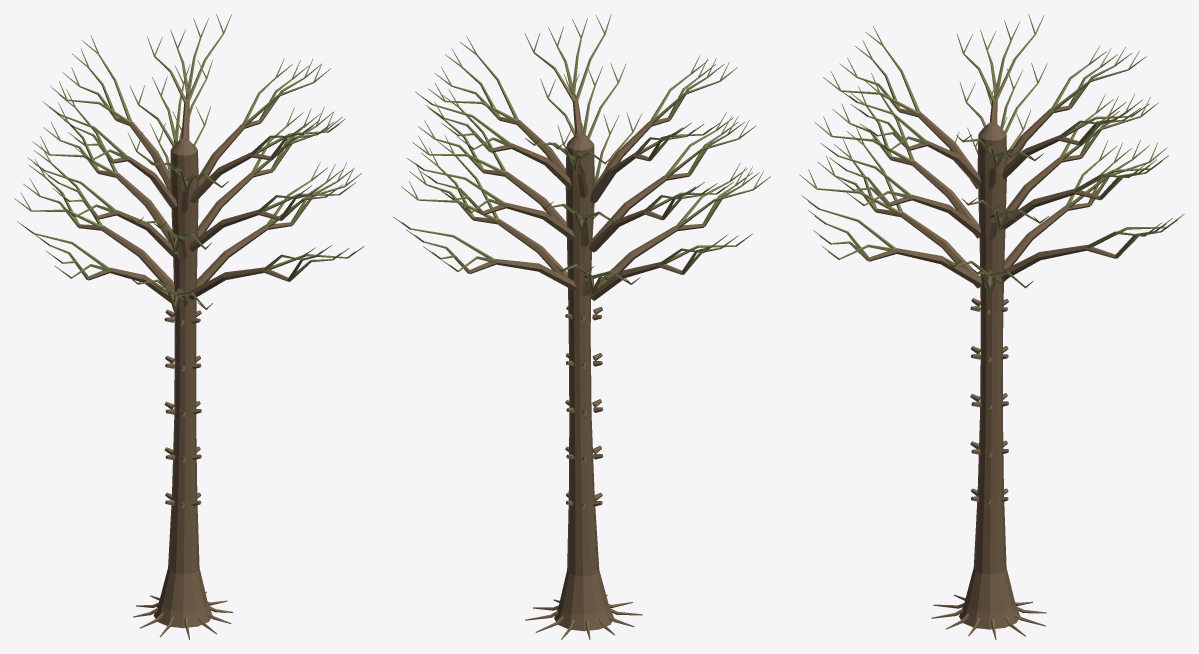
Rendered from calamophyton.glb.
The picture shows the model from 3 angles, left to right: view 1: azimuth 30°, elevation 25°; view 2: azimuth 150°, elevation 25°; view 3: azimuth 270°, elevation 25°; orthographic projection. The views are drawn at different scales.
Parts seen in each view (by area): view 1: unbranched_trunk_narrow_middle_domed_apex, digitate_finger_axes, upper_lateral_digitate_primary_sprays, terminal_dichotomous_leafless_twigs, retained_branch_bases_in_longitudinal_ranks, slender_unbranched_root_traces; view 2: unbranched_trunk_narrow_middle_domed_apex, digitate_finger_axes, upper_lateral_digitate_primary_sprays, terminal_dichotomous_leafless_twigs, retained_branch_bases_in_longitudinal_ranks, slender_unbranched_root_traces; view 3: unbranched_trunk_narrow_middle_domed_apex, digitate_finger_axes, upper_lateral_digitate_primary_sprays, terminal_dichotomous_leafless_twigs, retained_branch_bases_in_longitudinal_ranks, slender_unbranched_root_traces.
Boxes of the visible parts, x1,y1,x2,y2 form: unbranched_trunk_narrow_middle_domed_apex: (153,138,212,628); digitate_finger_axes: (31,33,347,312); upper_lateral_digitate_primary_sprays: (78,93,292,312); terminal_dichotomous_leafless_twigs: (14,14,364,309); retained_branch_bases_in_longitudinal_ranks: (164,309,201,508); slender_unbranched_root_traces: (133,591,233,639); unbranched_trunk_narrow_middle_domed_apex: (554,132,613,631); digitate_finger_axes: (411,34,753,293); upper_lateral_digitate_primary_sprays: (469,92,704,300); terminal_dichotomous_leafless_twigs: (393,14,770,284); retained_branch_bases_in_longitudinal_ranks: (565,306,603,508); slender_unbranched_root_traces: (525,594,642,639); unbranched_trunk_narrow_middle_domed_apex: (959,122,1019,629); digitate_finger_axes: (817,34,1165,293); upper_lateral_digitate_primary_sprays: (869,94,1115,289); terminal_dichotomous_leafless_twigs: (799,14,1184,288); retained_branch_bases_in_longitudinal_ranks: (970,298,1008,504); slender_unbranched_root_traces: (931,594,1046,639).
Bounding box in the file's own units: 1.63 × 2.68 × 1.69.
